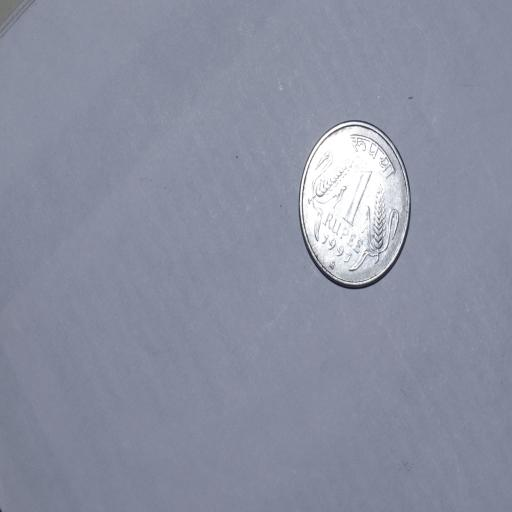rupee1: (294, 119, 413, 294)
